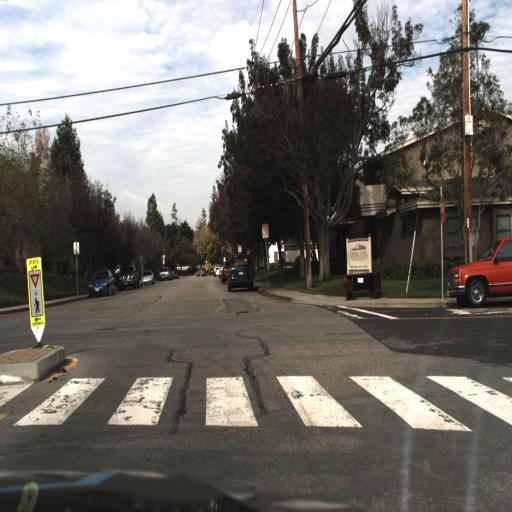car: (222, 253, 257, 294), (83, 266, 116, 301), (86, 268, 117, 303), (114, 262, 142, 292), (136, 264, 155, 285), (155, 262, 172, 284)
